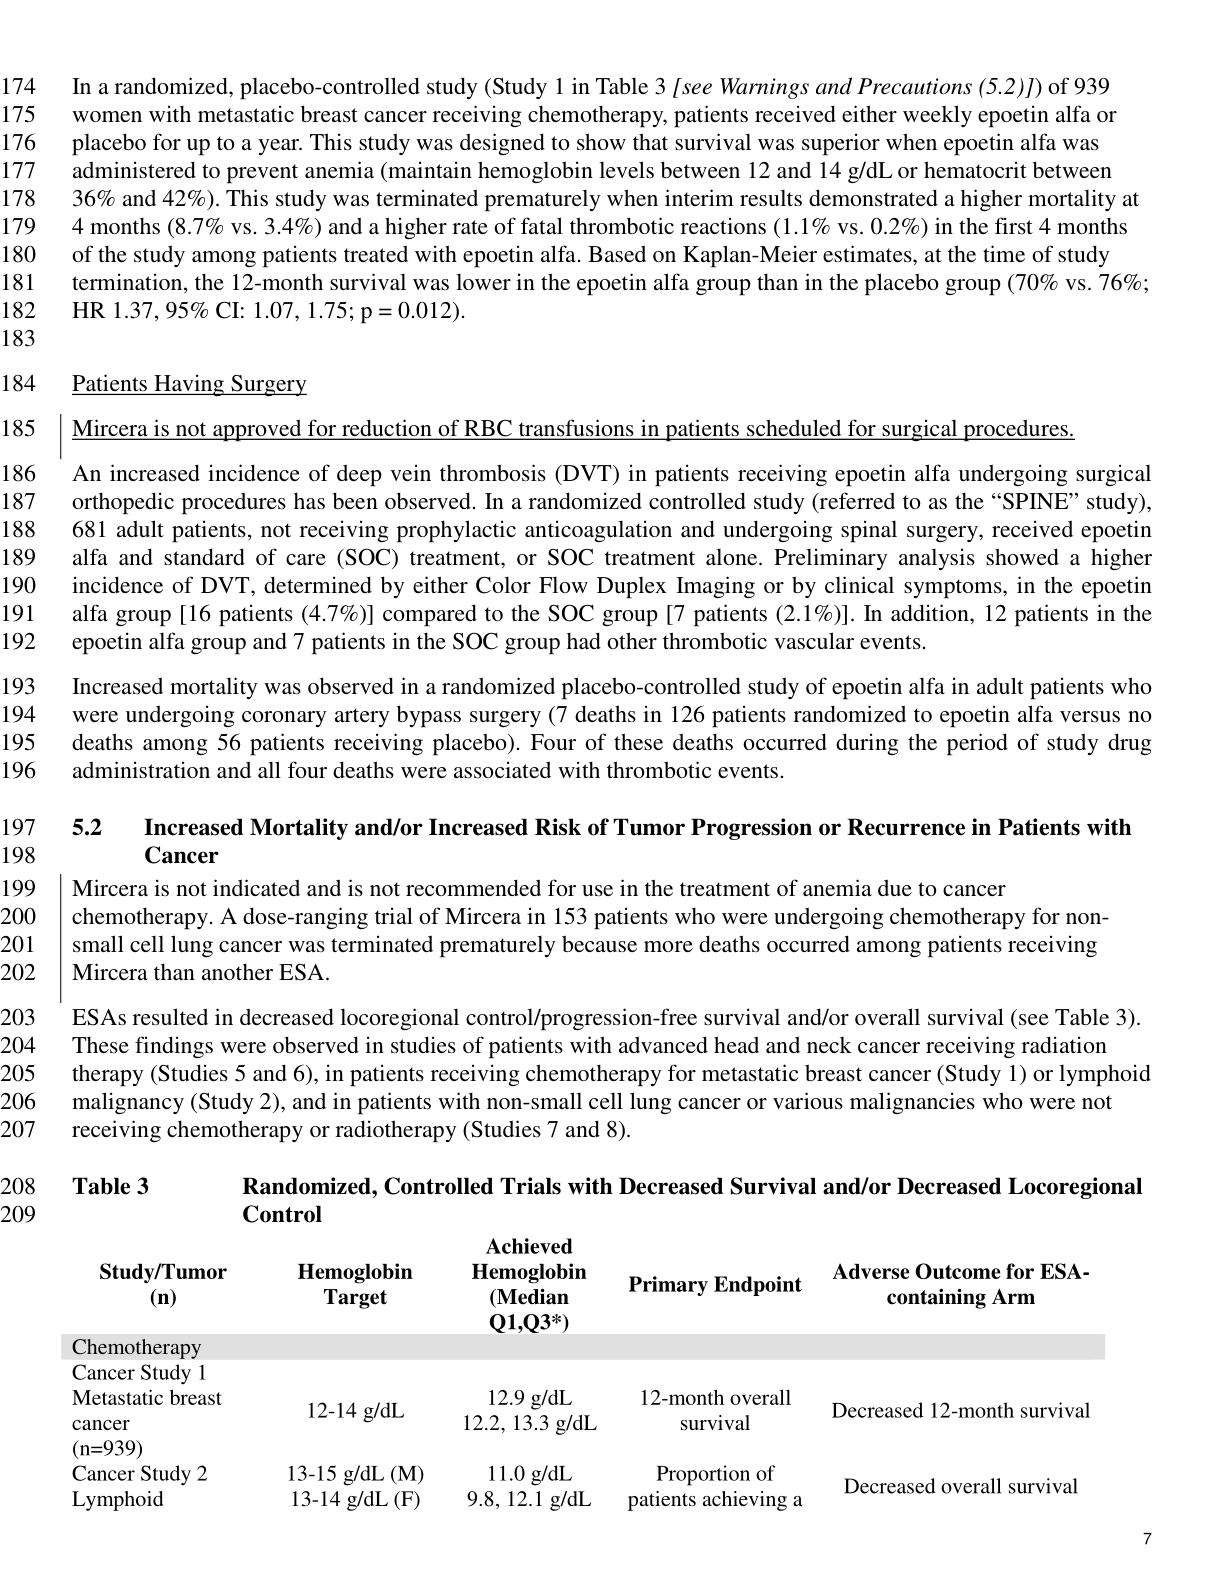nolines: (58, 1230, 1107, 1518)
